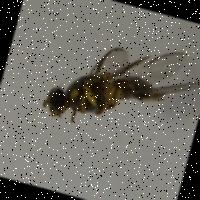Oriental-fruit-fly: (20, 15, 200, 174)
